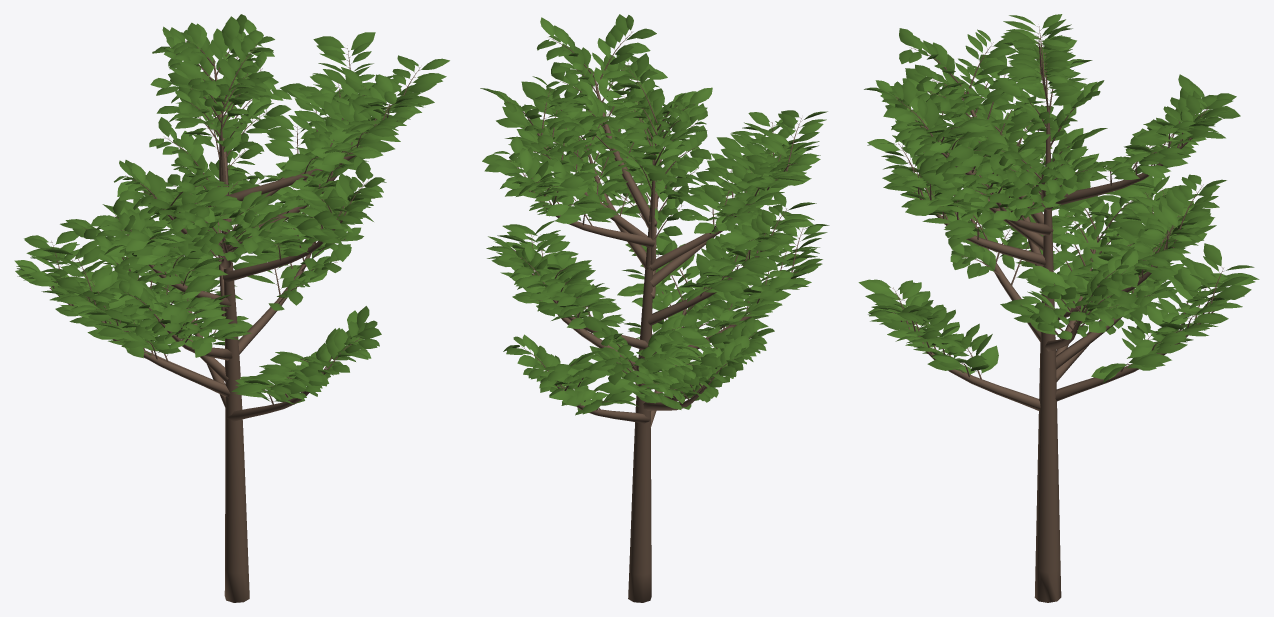
The model's file is broadleaf-lod0.glb.
3 renders of one model, left to right at view 1: azimuth 30°, elevation 25°; view 2: azimuth 150°, elevation 25°; view 3: azimuth 270°, elevation 25°, orthographic. The views are drawn at different scales.
Parts seen in each view (by area): view 1: tree_foliage, tree_trunk, tree_twigs, tree_branch_4, tree_branch_3, tree_branch_8, tree_branch_5, tree_branch_11; view 2: tree_foliage, tree_trunk, tree_twigs, tree_branch_8, tree_branch_2, tree_branch_9, tree_branch_1, tree_branch_6, tree_branch_15; view 3: tree_foliage, tree_trunk, tree_twigs, tree_branch_11, tree_branch_3, tree_branch_2, tree_branch_15, tree_branch_7.
Part boxes in pixels (<box>): tree_foliage: <box>14,14,449,404</box>; tree_trunk: <box>220,132,249,602</box>; tree_twigs: <box>50,35,420,405</box>; tree_branch_4: <box>101,321,230,396</box>; tree_branch_3: <box>223,220,342,282</box>; tree_branch_8: <box>227,120,397,201</box>; tree_branch_5: <box>238,241,316,354</box>; tree_branch_11: <box>226,372,325,421</box>; tree_foliage: <box>480,14,829,415</box>; tree_trunk: <box>628,159,655,602</box>; tree_twigs: <box>507,31,805,410</box>; tree_branch_8: <box>593,72,657,227</box>; tree_branch_2: <box>529,190,655,247</box>; tree_branch_9: <box>647,250,765,325</box>; tree_branch_1: <box>650,211,749,270</box>; tree_branch_6: <box>650,235,715,287</box>; tree_branch_15: <box>555,385,650,423</box>; tree_foliage: <box>858,14,1259,382</box>; tree_trunk: <box>1034,110,1061,602</box>; tree_twigs: <box>887,26,1223,378</box>; tree_branch_11: <box>921,346,1040,410</box>; tree_branch_3: <box>914,192,1045,266</box>; tree_branch_2: <box>1053,138,1192,207</box>; tree_branch_15: <box>1055,311,1213,401</box>; tree_branch_7: <box>1056,278,1152,369</box>.
Bounding box in the file's own units: 2.61 × 4.29 × 2.73.
